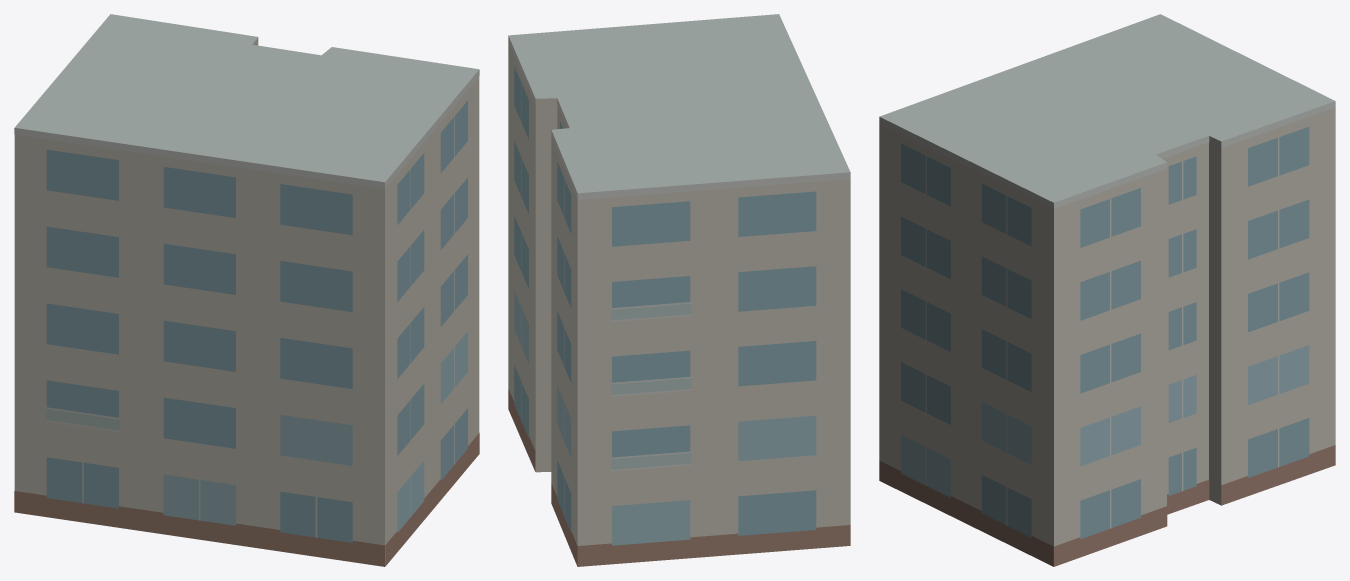
Rendered from survey-upis-32930526.glb.
3 renders of one model, left to right at view 1: azimuth 30°, elevation 25°; view 2: azimuth 150°, elevation 25°; view 3: azimuth 270°, elevation 25°, orthographic. The views are drawn at different scales.
Parts seen in each view (by area): view 1: survey-upis-32930526.tmp; view 2: survey-upis-32930526.tmp; view 3: survey-upis-32930526.tmp.
Part boxes in pixels (x1,y1,x2,y2): survey-upis-32930526.tmp: (14,14,479,566); survey-upis-32930526.tmp: (508,14,850,566); survey-upis-32930526.tmp: (879,14,1335,566).
Bounding box in the file's own units: 15.41 × 13.85 × 15.74.
